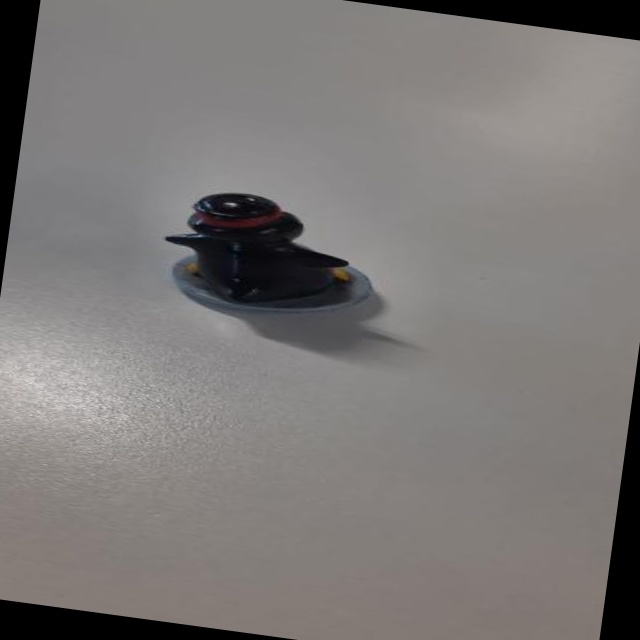Penguin: (157, 180, 389, 335)
